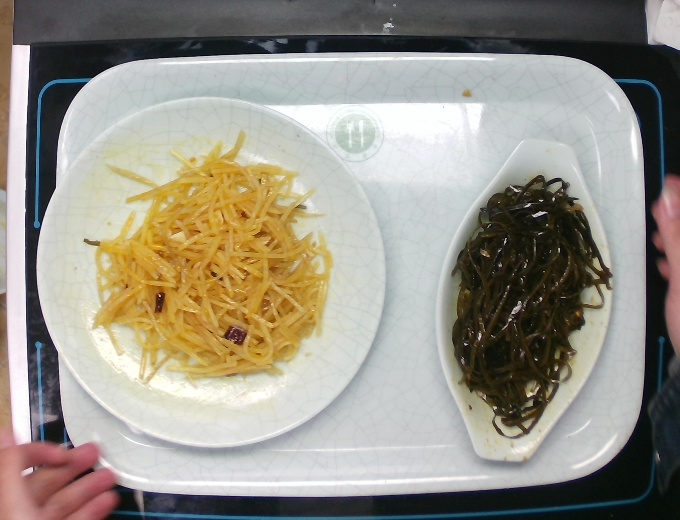JYsf-Da_Yuan_Pan: (30, 90, 394, 453)
JYsf-Yu_Pan: (427, 134, 618, 468)
